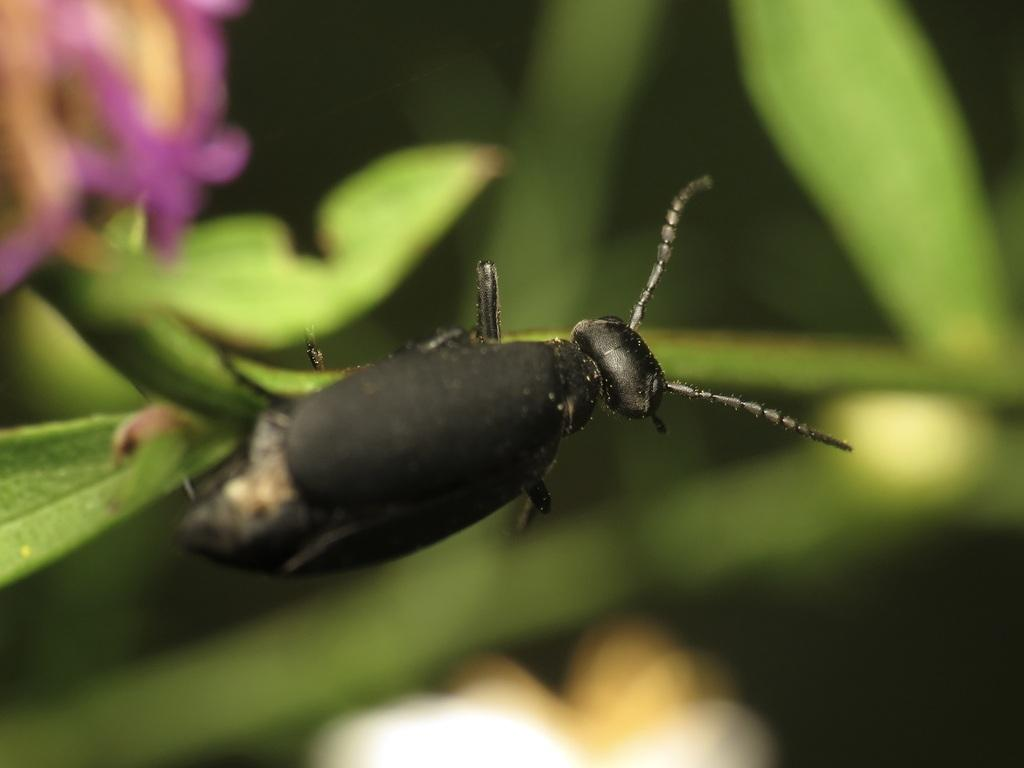blister_beetle: (20, 108, 943, 695)
